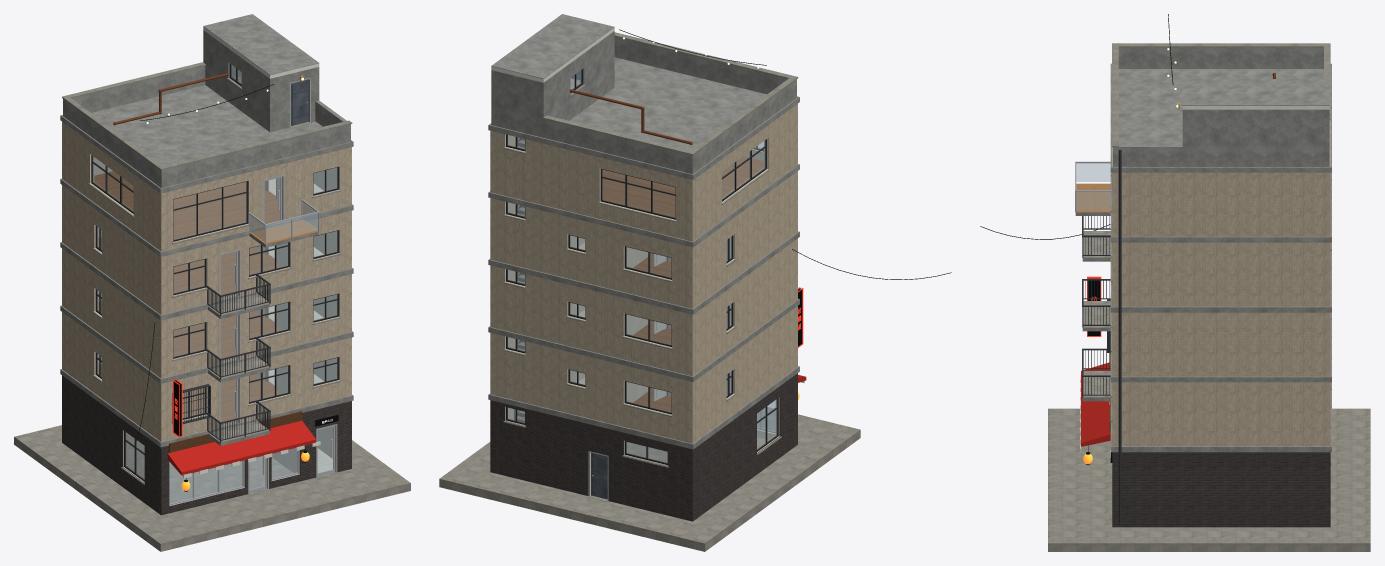
File: b_apt_urban_5f.gltf
3 views of the same model, side by side, from view 1: azimuth 30°, elevation 25°; view 2: azimuth 150°, elevation 25°; view 3: azimuth 270°, elevation 25° (orthographic). The views are drawn at different scales.
Parts seen in each view (by area): view 1: S_apt_urban_5f, D_apt_urban_5f_F4_S1_Door0, D_apt_urban_5f_F1_S3_Door0, D_apt_urban_5f_F3_S1_Door0, D_apt_urban_5f_F2_S1_Door0, D_apt_urban_5f_F5_S1_Door0, D_apt_urban_5f_PH_S0_Door0, D_apt_urban_5f_F1_S1_Door0; view 2: S_apt_urban_5f, D_apt_urban_5f_F1_N1_Door0; view 3: S_apt_urban_5f.
Part boxes in pixels (box(x1,y1,x2,y2)): S_apt_urban_5f: box(14, 14, 410, 551); D_apt_urban_5f_F4_S1_Door0: box(220, 251, 238, 300); D_apt_urban_5f_F1_S3_Door0: box(317, 425, 334, 475); D_apt_urban_5f_F3_S1_Door0: box(220, 315, 238, 363); D_apt_urban_5f_F2_S1_Door0: box(220, 378, 238, 427); D_apt_urban_5f_F5_S1_Door0: box(264, 176, 281, 225); D_apt_urban_5f_PH_S0_Door0: box(291, 79, 308, 125); D_apt_urban_5f_F1_S1_Door0: box(249, 455, 266, 492); S_apt_urban_5f: box(439, 14, 951, 551); D_apt_urban_5f_F1_N1_Door0: box(591, 453, 607, 499); S_apt_urban_5f: box(980, 14, 1370, 551).
Bounding box in the file's own units: 16.11 × 19.7 × 16.21.
Materials: 29 (13 with a texture image).
